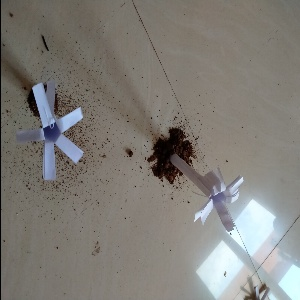weed: (154, 133, 245, 231), (15, 78, 95, 183)
